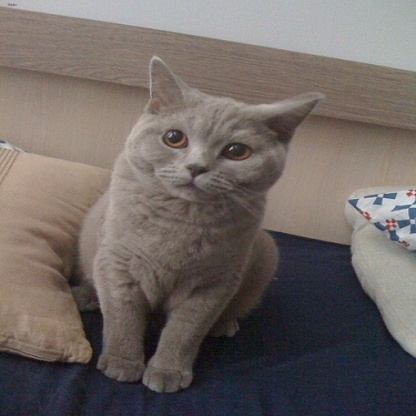british_shorthair: (78, 56, 318, 389)
